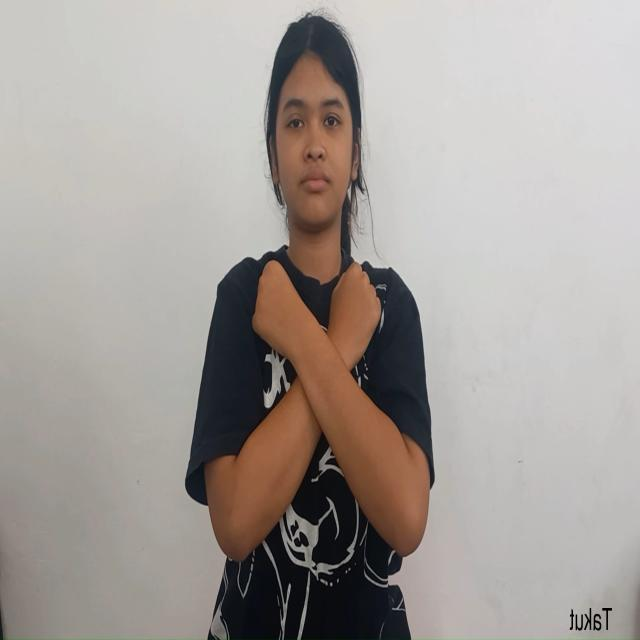Takut -BISINDO-: (232, 259, 410, 560)
